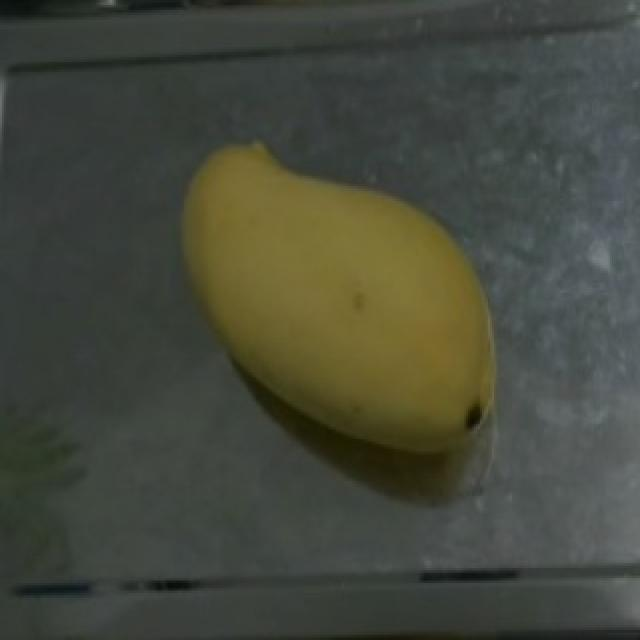fruit: (162, 126, 538, 476)
